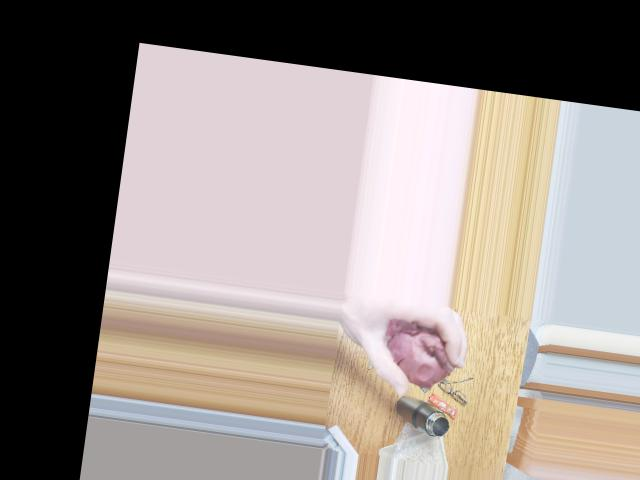onion: (392, 323, 448, 377)
